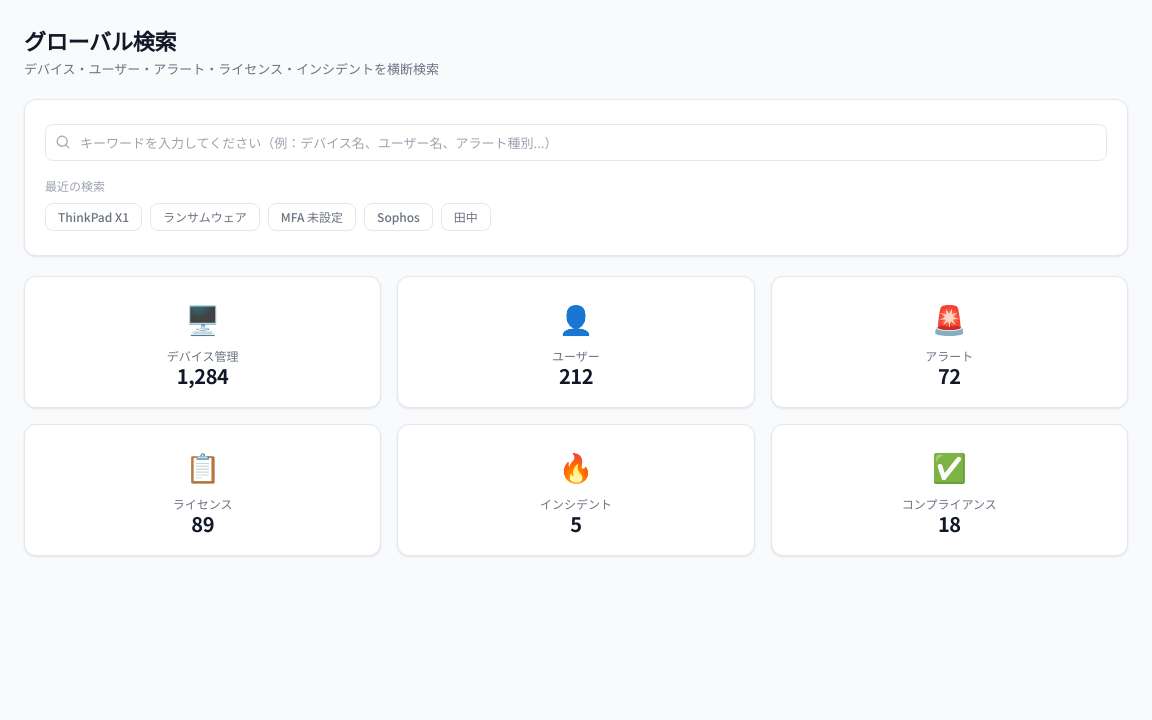
Scenario: Search page (static design-data driven) › shows results panel when query has 2+ chars matching
Type "DESK" into the field with placeholder "キーワードを入力してください（例：デバイス名、ユーザー名、アラート種別...）" at coordinates (576, 142), box [45, 124, 1107, 161]
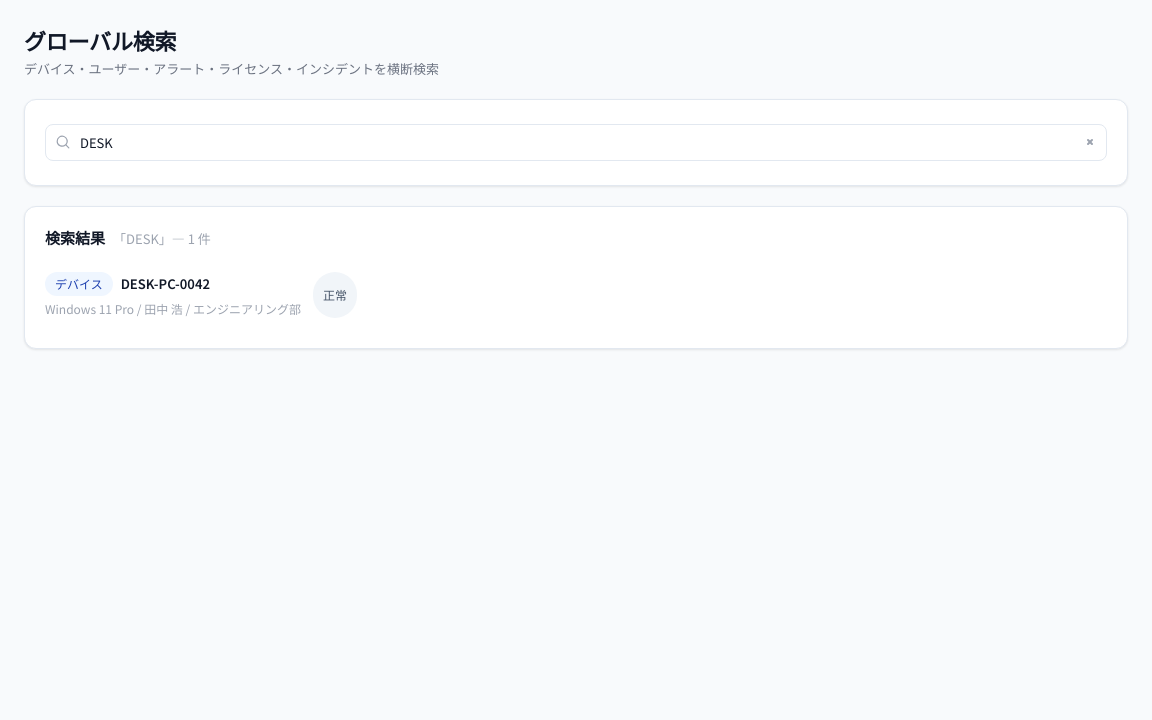
Now the heading "検索結果「DESK」— 1 件" is shown, box [45, 227, 211, 248]
Now the text "DESK-PC-0042" is shown, box [121, 274, 210, 292]
